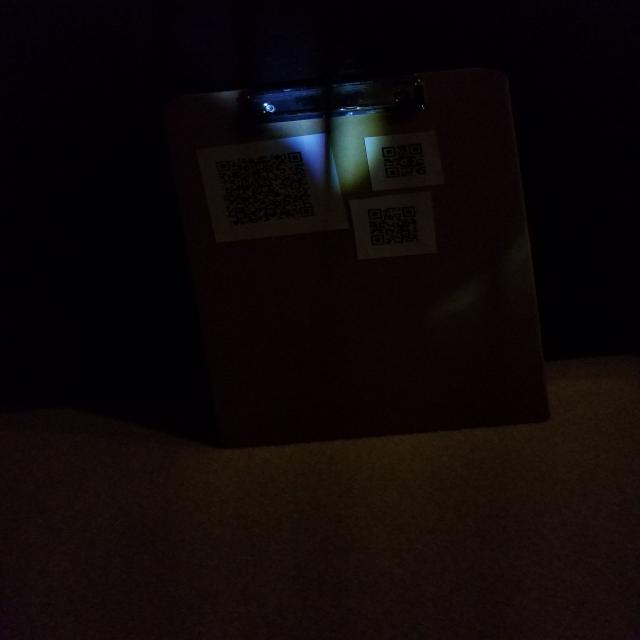QR_CODE: (208, 143, 323, 230), (359, 196, 443, 254), (375, 137, 437, 183)
